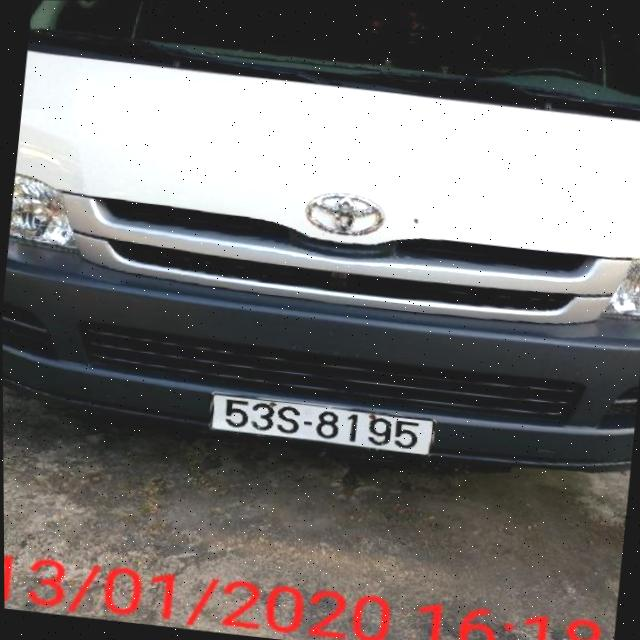car: (0, 0, 640, 510)
plate: (201, 381, 442, 465)
